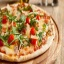basil: (1, 10, 16, 21), (36, 30, 46, 46), (25, 11, 37, 24), (16, 18, 25, 34), (1, 34, 11, 47)
pizza: (1, 2, 54, 58)
